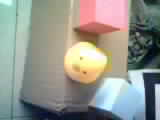duck: (59, 38, 111, 86)
